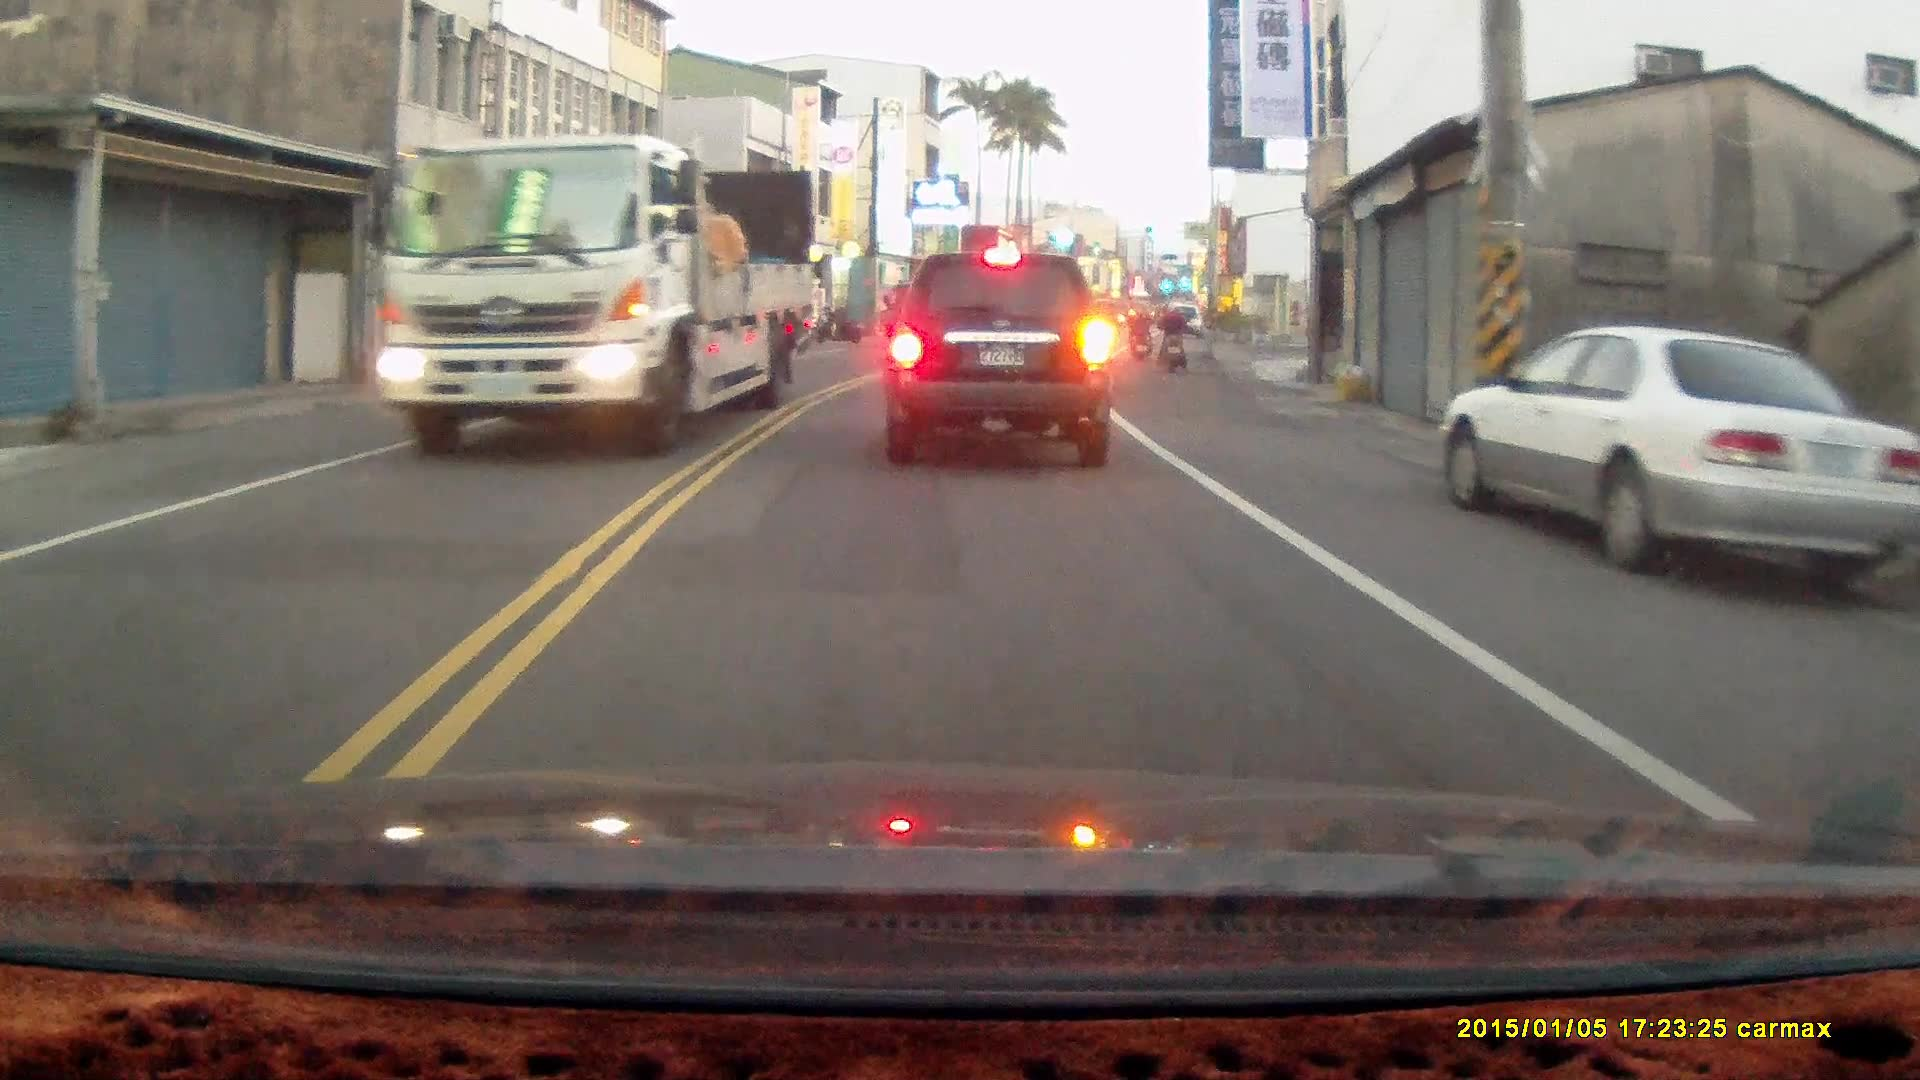rider: (1156, 295, 1187, 374), (1125, 300, 1150, 361)
vehicle: (371, 136, 822, 450), (1442, 320, 1911, 585), (882, 248, 1117, 467)
